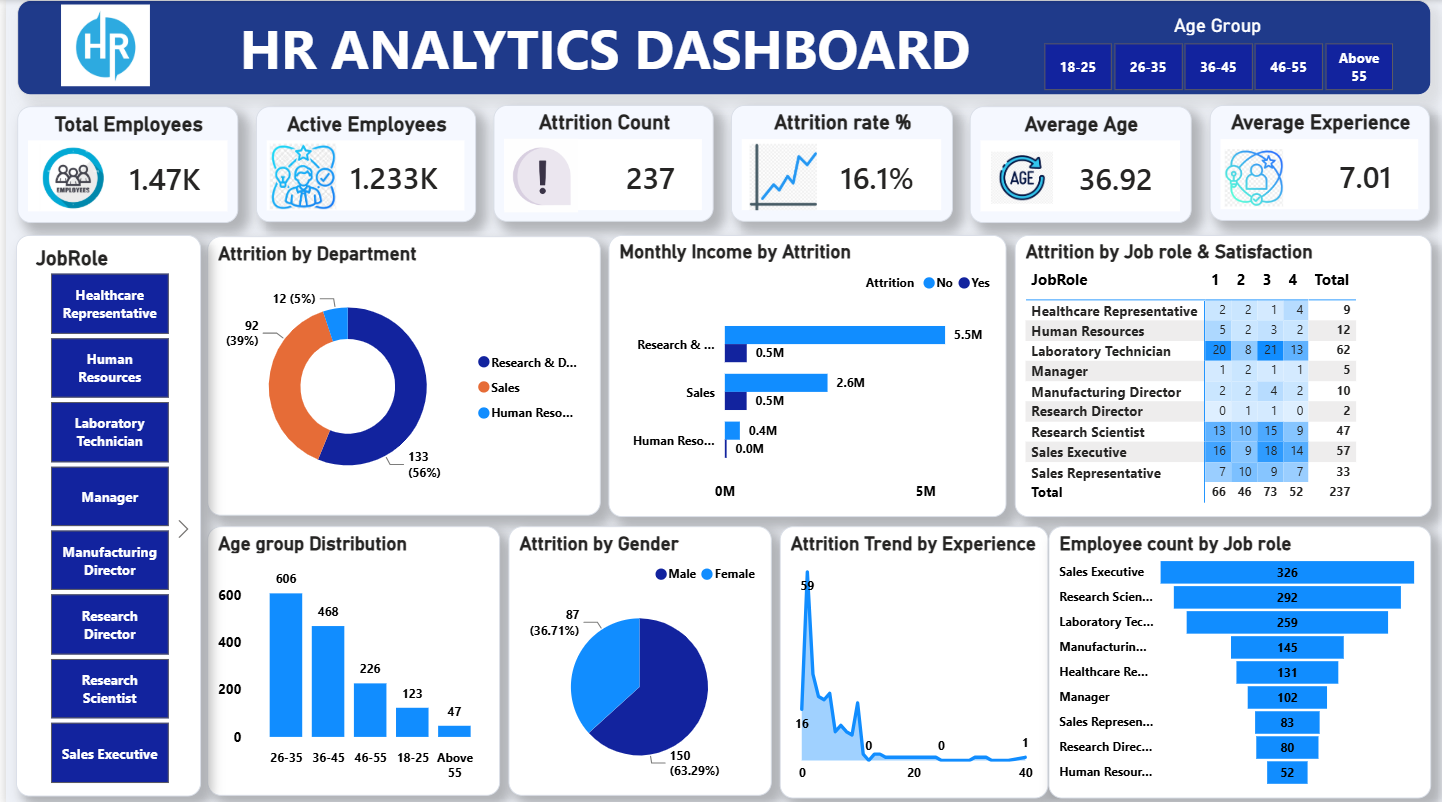

The dashboard page shown, as its layout file describes it:
{"tool":"powerbi","page":{"name":"Page 1","canvas":[1280,720],"ordinal":0},"visuals":[{"type":"textbox","box":[10,0,1259,85],"z":0},{"type":"image","box":[49.4,0,79.6,81],"z":1000},{"type":"cardVisual","title":"Total Employees","fields":{"Data":["CountNonNull(HR_Analytics.EmployeeNumber)"]},"box":[10,95,197,104],"z":2000},{"type":"cardVisual","title":"Active Employees","fields":{"Data":["CountNonNull(HR_Analytics.EmployeeCount)"]},"box":[222.4,94.7,196.2,102.9],"z":3000},{"type":"cardVisual","title":"Attrition Count","fields":{"Data":["Sum(HR_Analytics.Attrition_Count)"]},"box":[434,93.3,196.2,104.3],"z":4000},{"type":"cardVisual","title":"Attrition rate %","fields":{"Data":["HR_Analytics.Attrition rate %"]},"box":[645.7,93.3,197.6,104.3],"z":5000},{"type":"cardVisual","title":"Average Age","fields":{"Data":["Avg(HR_Analytics.Age)"]},"box":[858.7,94.7,197.6,104.3],"z":6000},{"type":"cardVisual","title":"Average Experience","fields":{"Data":["Avg(HR_Analytics.YearsAtCompany)"]},"box":[1071.7,93.3,196.2,102.9],"z":7000},{"type":"image","box":[234.6,124.9,59,64.5],"z":8000},{"type":"image","box":[30.2,127.6,59,60.4],"z":9000},{"type":"image","box":[1085.4,124.9,52.1,67.2],"z":10000},{"type":"image","box":[658.7,127.6,65.9,59],"z":11000},{"type":"image","box":[876.8,124.9,54.9,67.2],"z":12000},{"type":"image","box":[443.2,123.5,67.2,65.9],"z":13000},{"type":"donutChart","title":"Attrition by Department","fields":{"Category":["HR_Analytics.Department"],"Y":["Sum(HR_Analytics.Attrition_Count)"]},"box":[179,210,350,249],"z":14000},{"type":"clusteredBarChart","title":"Monthly Income by Attrition","fields":{"Category":["HR_Analytics.Department"],"Series":["HR_Analytics.Attrition"],"Y":["Sum(HR_Analytics.MonthlyIncome)"]},"box":[537,209,354,251.1],"z":15000},{"type":"pivotTable","title":"Attrition by Job role & Satisfaction","fields":{"Values":["Sum(HR_Analytics.Attrition_Count)"],"Columns":["HR_Analytics.JobSatisfaction"],"Rows":["HR_Analytics.JobRole"]},"box":[898,209,371,251],"z":16000},{"type":"columnChart","title":"Age group Distribution","fields":{"Category":["HR_Analytics.Age_Group"],"Y":["CountNonNull(HR_Analytics.EmployeeCount)"]},"box":[179,469,261,240],"z":17000},{"type":"pieChart","title":"Attrition by Gender","fields":{"Category":["HR_Analytics.Gender"],"Y":["Sum(HR_Analytics.Attrition_Count)"]},"box":[448,469,234,240],"z":18000},{"type":"areaChart","title":"Attrition Trend by Experience","fields":{"Category":["HR_Analytics.YearsAtCompany"],"Y":["Sum(HR_Analytics.Attrition_Count)"]},"box":[689,469,239,242],"z":18001},{"type":"funnel","title":"Employee count by Job role","fields":{"Category":["HR_Analytics.JobRole"],"Y":["CountNonNull(HR_Analytics.EmployeeNumber)"]},"box":[928,469,341,242],"z":18002},{"type":"slicer","fields":{"Values":["HR_Analytics.JobRole"]},"box":[9,209,165,500],"z":18003},{"type":"slicer","title":"Age Group","fields":{"Values":["HR_Analytics.Age_Group"]},"box":[898,12,361,68],"z":18004}]}

Visuals, with their boxes in screenshot pixels (x1, y1, x2, y2), scaled from the page's 1280x720 canvas onto the 1442x802 screenshot:
textbox: 11, 0, 1430, 95
image: 56, 0, 145, 90
"Total Employees" cardVisual: 11, 106, 233, 222
"Active Employees" cardVisual: 251, 105, 472, 220
"Attrition Count" cardVisual: 489, 104, 710, 220
"Attrition rate %" cardVisual: 727, 104, 950, 220
"Average Age" cardVisual: 967, 105, 1190, 222
"Average Experience" cardVisual: 1207, 104, 1428, 219
image: 264, 139, 331, 211
image: 34, 142, 100, 209
image: 1223, 139, 1281, 214
image: 742, 142, 816, 208
image: 988, 139, 1050, 214
image: 499, 138, 575, 211
"Attrition by Department" donutChart: 202, 234, 596, 511
"Monthly Income by Attrition" clusteredBarChart: 605, 233, 1004, 513
"Attrition by Job role & Satisfaction" pivotTable: 1012, 233, 1430, 512
"Age group Distribution" columnChart: 202, 522, 496, 790
"Attrition by Gender" pieChart: 505, 522, 768, 790
"Attrition Trend by Experience" areaChart: 776, 522, 1045, 792
"Employee count by Job role" funnel: 1045, 522, 1430, 792
slicer - HR_Analytics.JobRole: 10, 233, 196, 790
"Age Group" slicer: 1012, 13, 1418, 89
